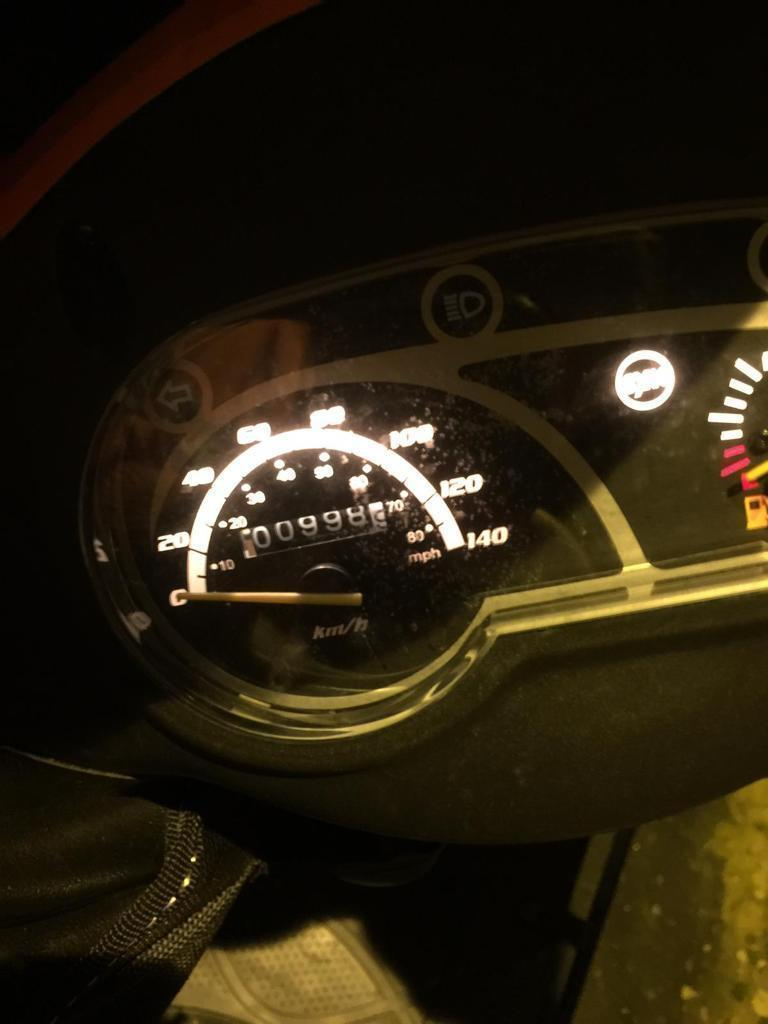0: (273, 519, 295, 543), (250, 524, 271, 549), (237, 515, 247, 528)
8: (345, 504, 367, 528)
9: (297, 513, 318, 537), (322, 509, 342, 532), (373, 507, 387, 529)
odometer: (234, 498, 388, 560)
